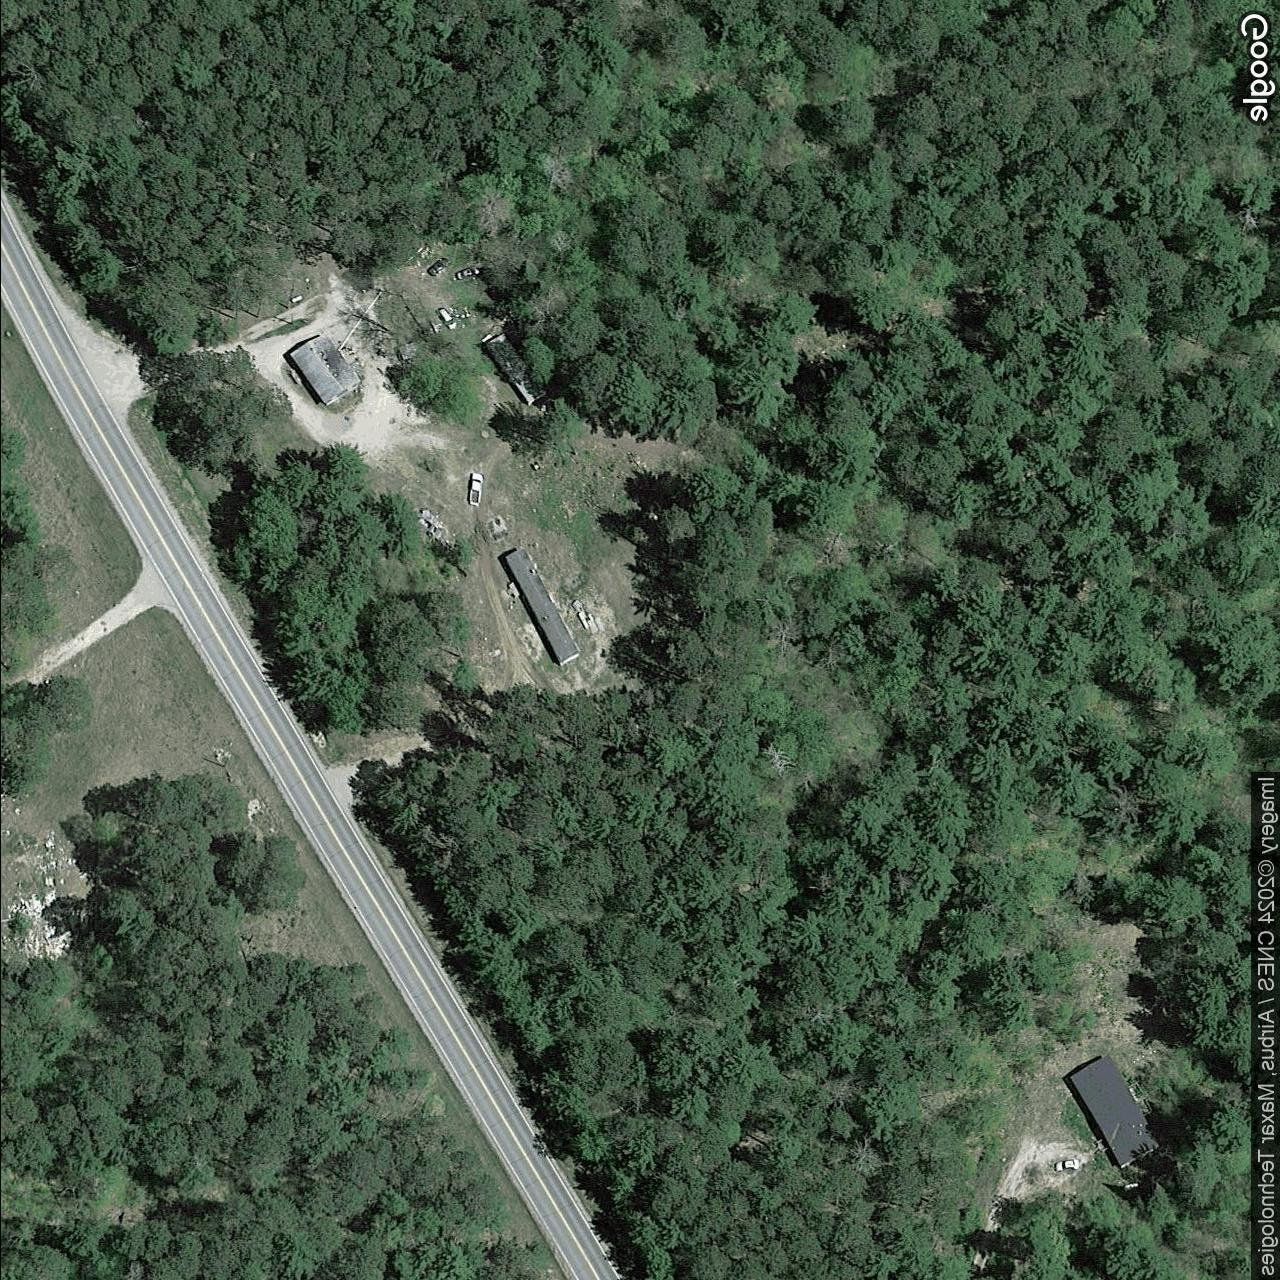House: (1067, 1054, 1162, 1171), (287, 333, 361, 409)
Propane: (1121, 1180, 1141, 1192), (479, 332, 493, 343), (288, 293, 304, 304)
Trailer: (503, 546, 579, 667), (484, 333, 546, 407)
